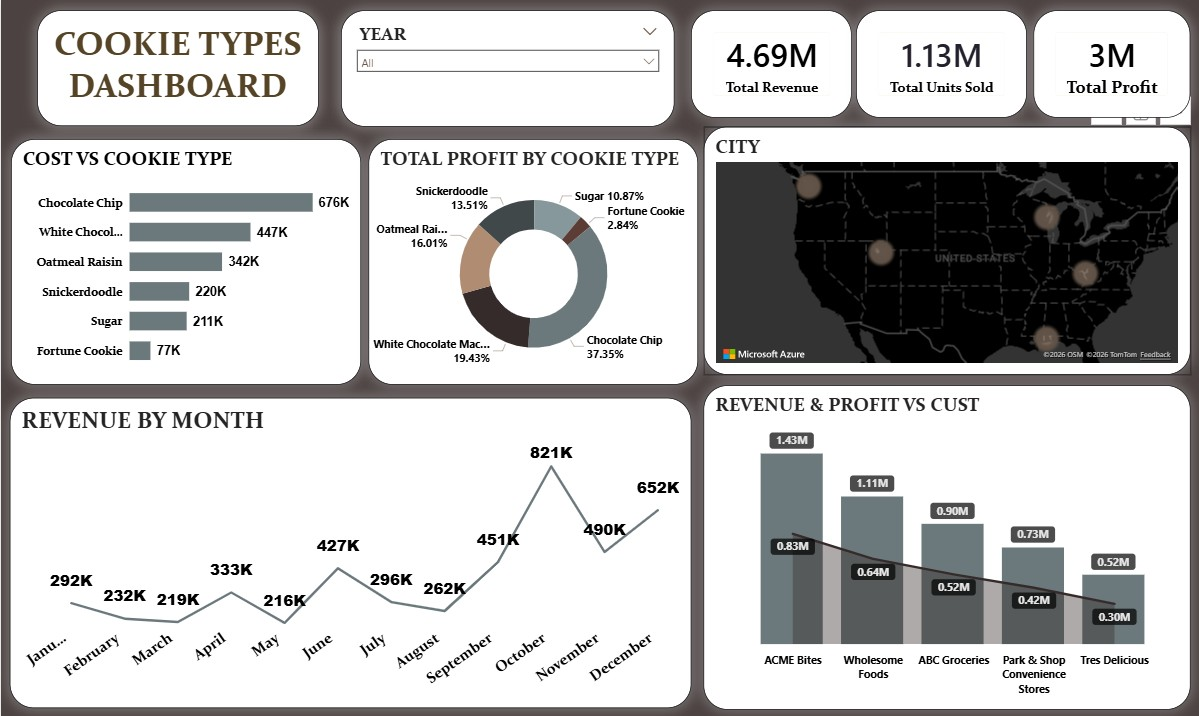

The page's visual inventory and layout, read from the dashboard file:
{"tool":"powerbi","page":{"name":"Page 1","canvas":[1500,900],"ordinal":0},"visuals":[{"type":"clusteredBarChart","title":"COST VS COOKIE TYPE","fields":{"Category":["Cookie Types.Cookie Type"],"Y":["Sum(Orders.Cost)"]},"box":[12.5,175,437.5,307.1],"z":0},{"type":"azureMap","title":"CITY","fields":{"Category":["Customers.City"]},"box":[878.6,158.9,608.9,310.7],"z":1000},{"type":"cardVisual","fields":{"Data":["Orders.Total Profit"]},"box":[1290.5,13.7,195.8,134.7],"z":2000},{"type":"cardVisual","fields":{"Data":["Orders.Total Revenue"]},"box":[863.2,13.7,201.1,134.7],"z":3000},{"type":"cardVisual","fields":{"Data":["Orders.Total Units Sold"]},"box":[1069.5,13.7,213.7,134.7],"z":4000},{"type":"lineChart","title":"REVENUE BY MONTH","fields":{"Y":["Sum(Orders.Revenue)"],"Category":["Orders.Date.Variation.Date Hierarchy.Month"]},"box":[11.7,498.3,851.7,388.3],"z":5000},{"type":"lineClusteredColumnComboChart","title":"REVENUE & PROFIT VS CUST","fields":{"Category":["Customers.Name"],"Y":["Sum(Orders.Revenue)"],"Y2":["Orders.Total Profit"]},"box":[878.6,482.1,608.9,405.4],"z":6000},{"type":"donutChart","title":"TOTAL PROFIT BY COOKIE TYPE","fields":{"Y":["Orders.Total Profit"],"Category":["Cookie Types.Cookie Type"]},"box":[459.3,175.2,412.4,307.1],"z":7000},{"type":"slicer","fields":{"Values":["Orders.Date.Variation.Date Hierarchy.Year"]},"box":[425,14.1,417.2,145.3],"z":8000},{"type":"textbox","box":[44.6,14.3,351.8,144.6],"z":9000}]}

Visuals, with their boxes in screenshot pixels (x1, y1, x2, y2), scaled from the page's 1500x900 canvas onto the 1199x716 screenshot:
"COST VS COOKIE TYPE" clusteredBarChart: bbox=[10, 139, 360, 384]
"CITY" azureMap: bbox=[702, 126, 1189, 374]
cardVisual - Orders.Total Profit: bbox=[1032, 11, 1188, 118]
cardVisual - Orders.Total Revenue: bbox=[690, 11, 851, 118]
cardVisual - Orders.Total Units Sold: bbox=[855, 11, 1026, 118]
"REVENUE BY MONTH" lineChart: bbox=[9, 396, 690, 705]
"REVENUE & PROFIT VS CUST" lineClusteredColumnComboChart: bbox=[702, 384, 1189, 706]
"TOTAL PROFIT BY COOKIE TYPE" donutChart: bbox=[367, 139, 697, 384]
slicer - Orders.Date.Variation.Date Hierarchy.Year: bbox=[340, 11, 673, 127]
textbox: bbox=[36, 11, 317, 126]
